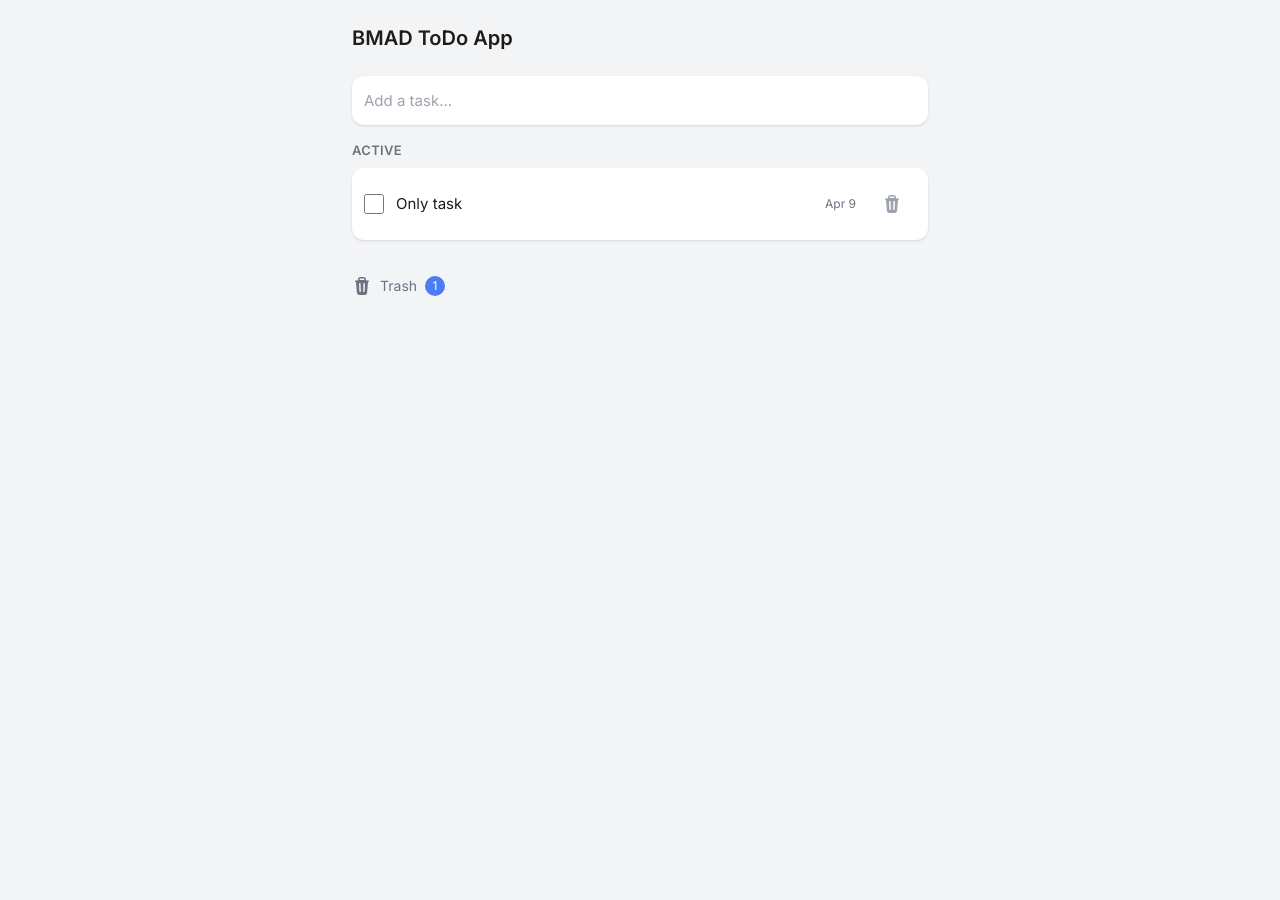
Scenario: App › shows empty state after deleting the last task
Expected: the text "Only task" is shown, [396, 194, 462, 213]
Click the button named "delete \"Only task\"" at (892, 204), box [868, 180, 916, 228]
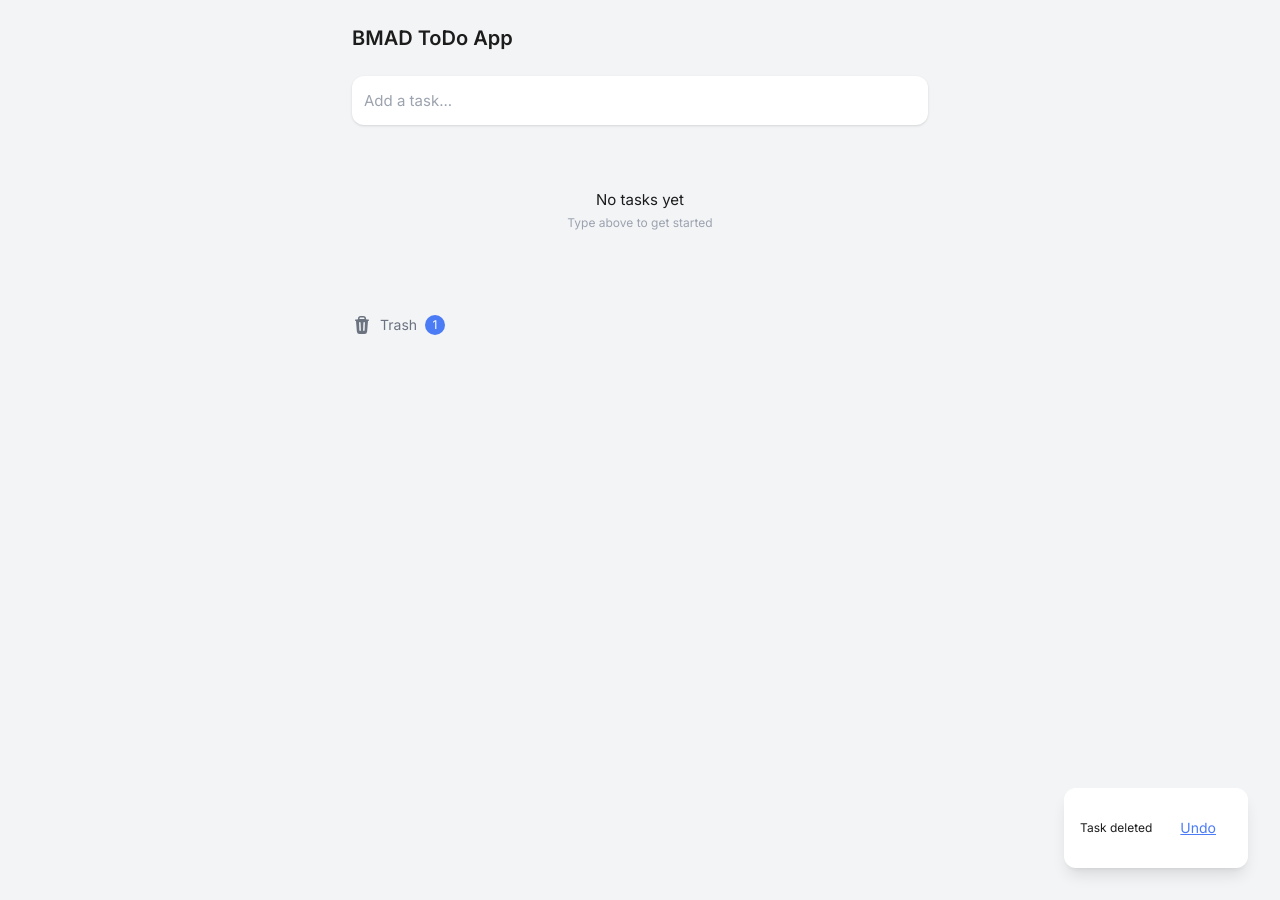
Expected: the text "Only task" is gone
Expected: the heading "No tasks yet" is shown, [596, 190, 684, 208]
